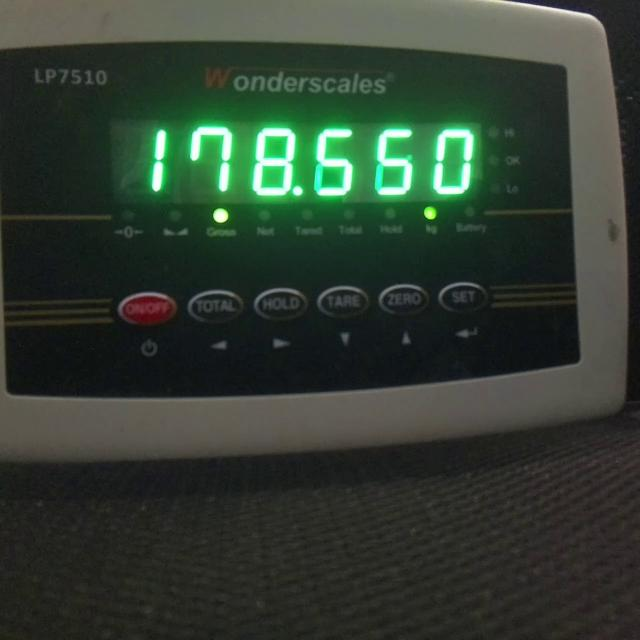.: (292, 184, 304, 197)
0: (433, 128, 473, 194)
1: (150, 128, 168, 192)
6: (313, 126, 354, 196), (374, 127, 414, 196)
7: (189, 124, 233, 192)
8: (252, 126, 296, 196)
